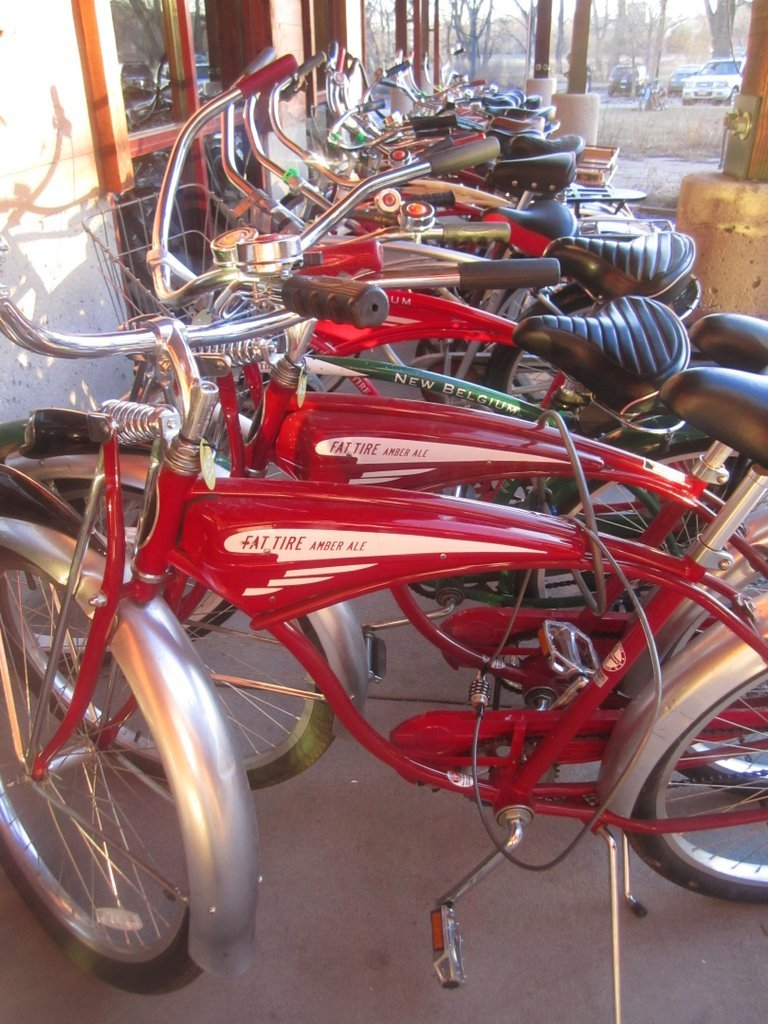Car: (674, 60, 748, 108)
